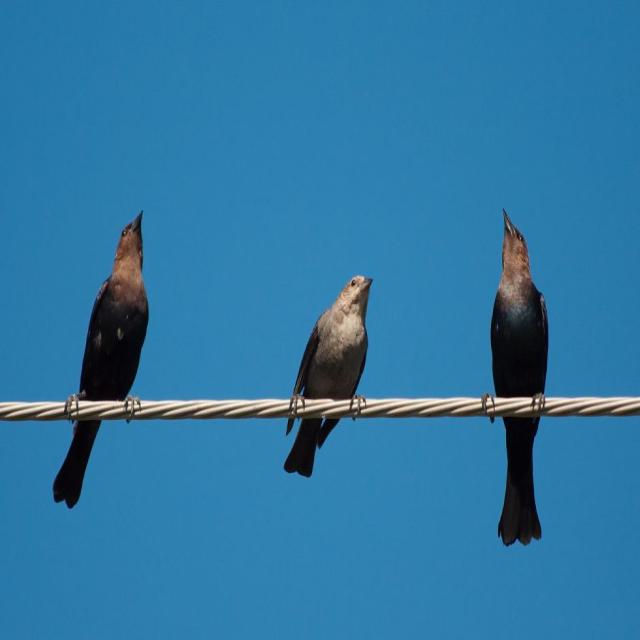bird: (56, 205, 154, 511), (487, 208, 554, 554), (278, 272, 375, 480)
